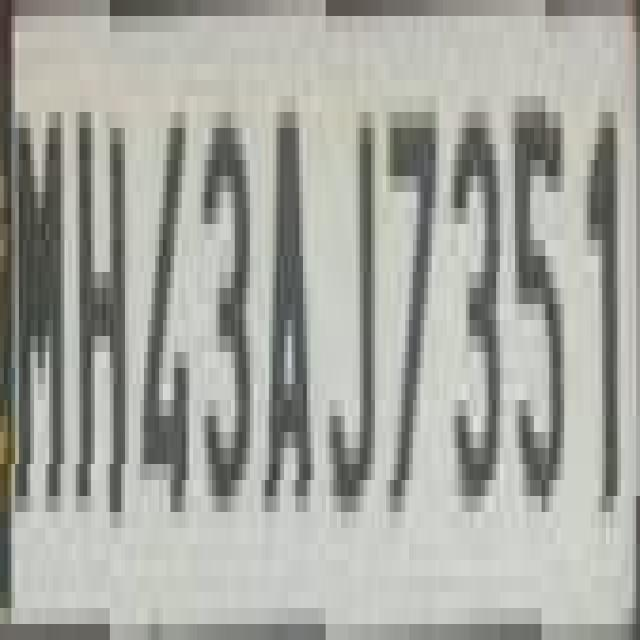license_plate: (4, 0, 602, 640)
